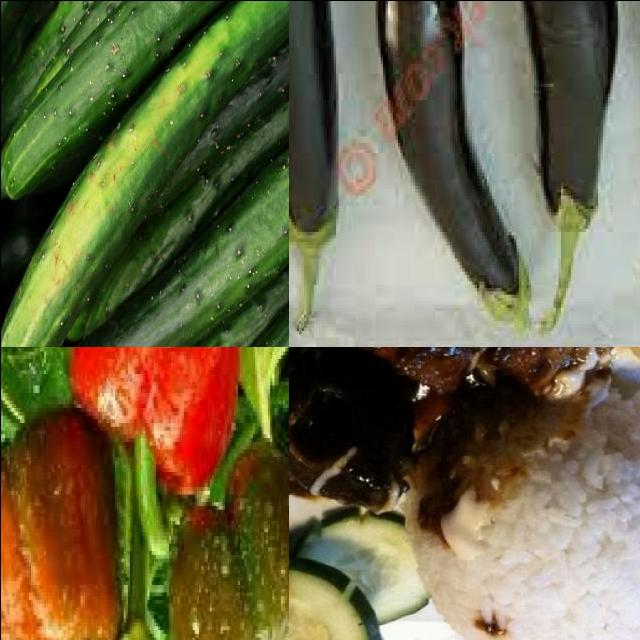bell_pepper: (161, 445, 289, 640)
cucumber: (1, 1, 289, 347), (39, 89, 289, 347), (1, 1, 289, 201), (298, 513, 433, 631), (196, 178, 289, 347), (1, 1, 166, 71), (289, 568, 379, 640)
eggplant: (384, 1, 534, 335), (517, 1, 621, 252), (289, 1, 344, 266)
